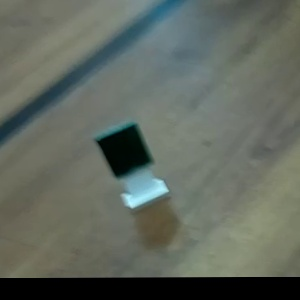rect: (88, 122, 177, 224)
